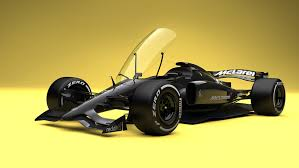f1_car: (30, 23, 290, 144)
